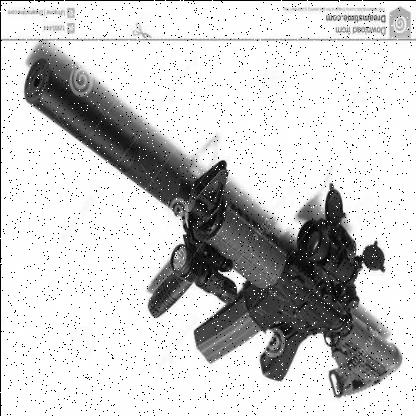rifle: (28, 54, 406, 395)
